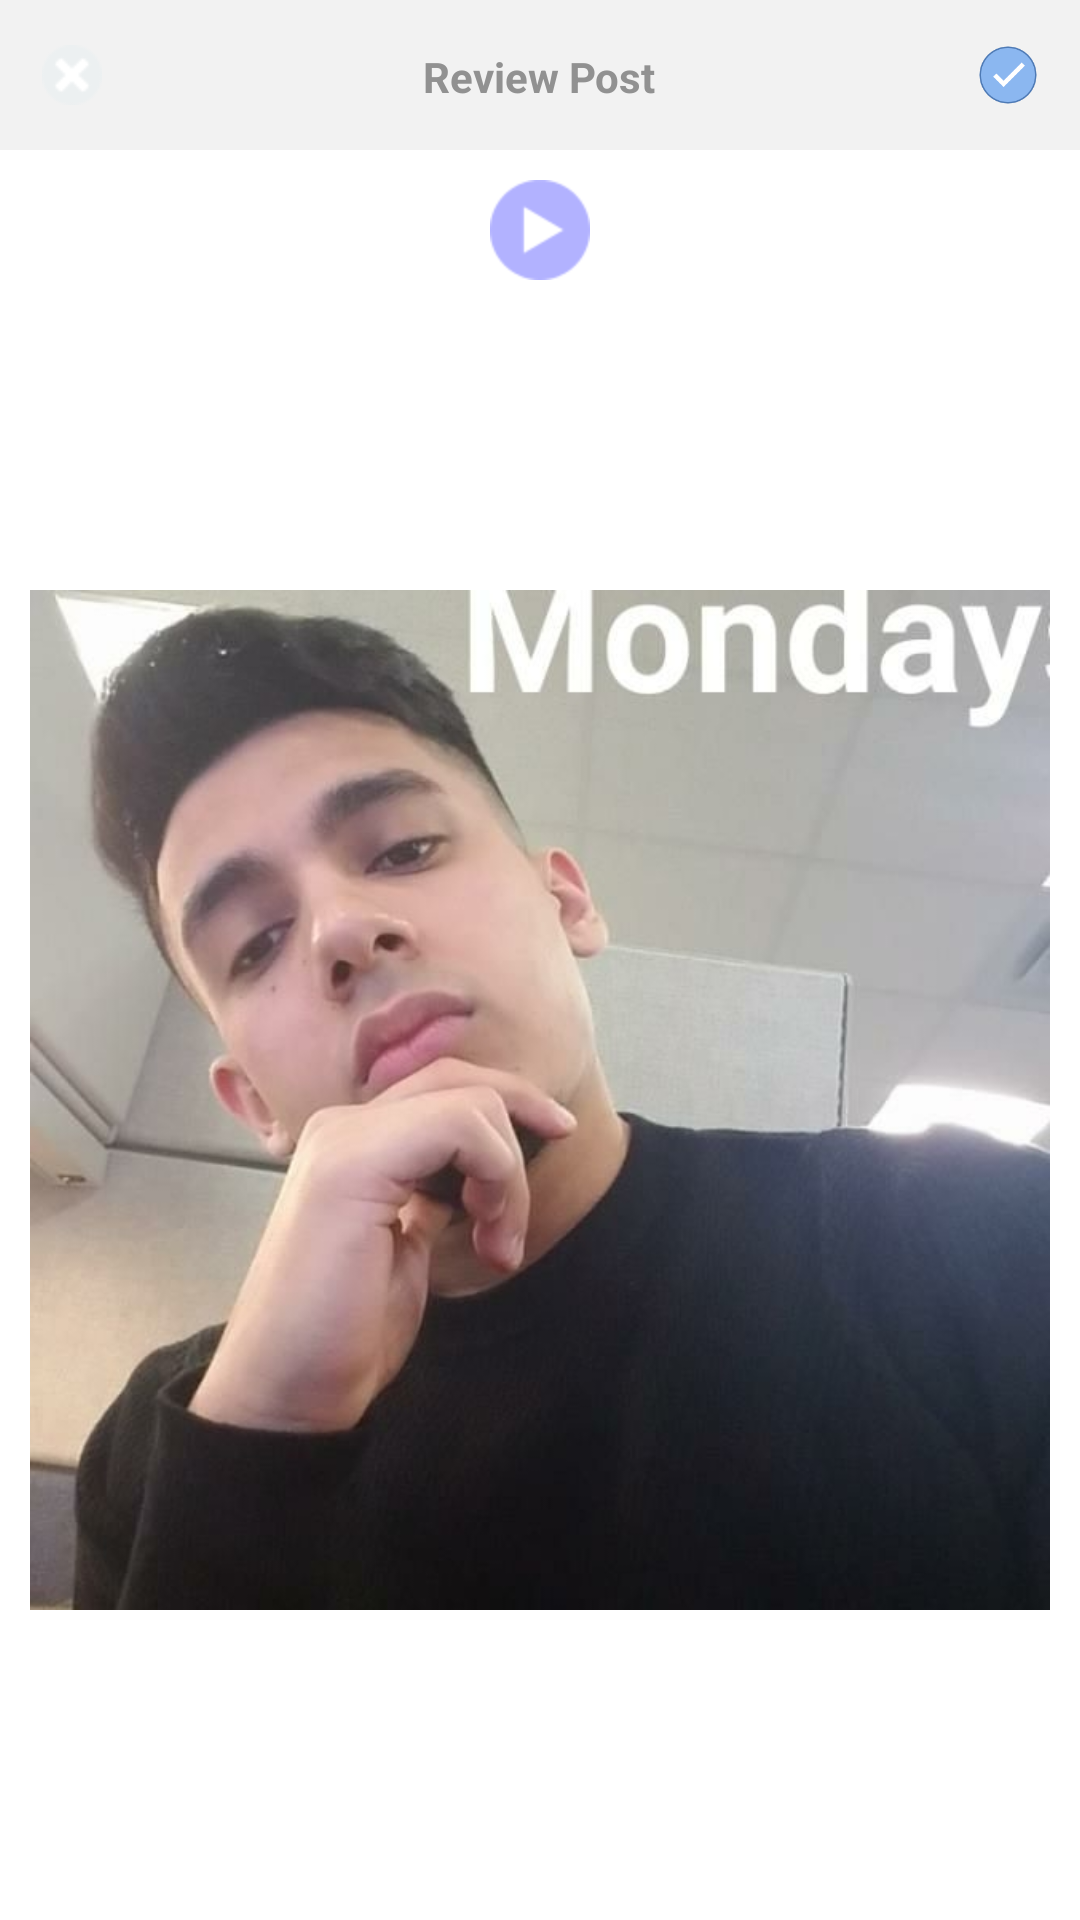

Screen size 1080*1920. Icon name, then its center in pixels as (x=x, y=y):
check: (x=1008, y=75)
profileplay: (x=540, y=230)
